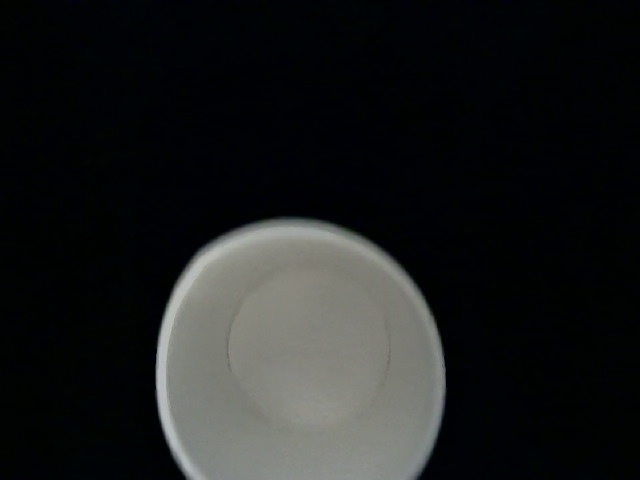KHSLJ: (78, 188, 583, 480)
